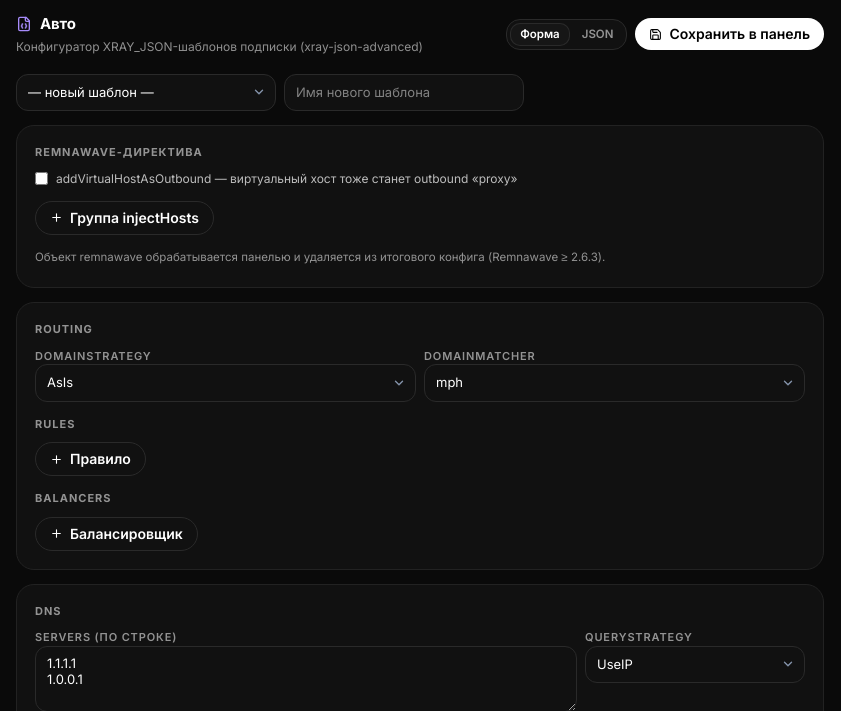
Test case: AutoTemplate › новый шаблон: POST создаёт, PUT пишет template_json
Check: the text "Remnawave-директива" is shown, box [35, 145, 203, 159]
Type "Авто-шаблон" into the field with placeholder "Имя нового шаблона".
click(404, 92); type("Авто-шаблон")  # box [284, 74, 524, 111]
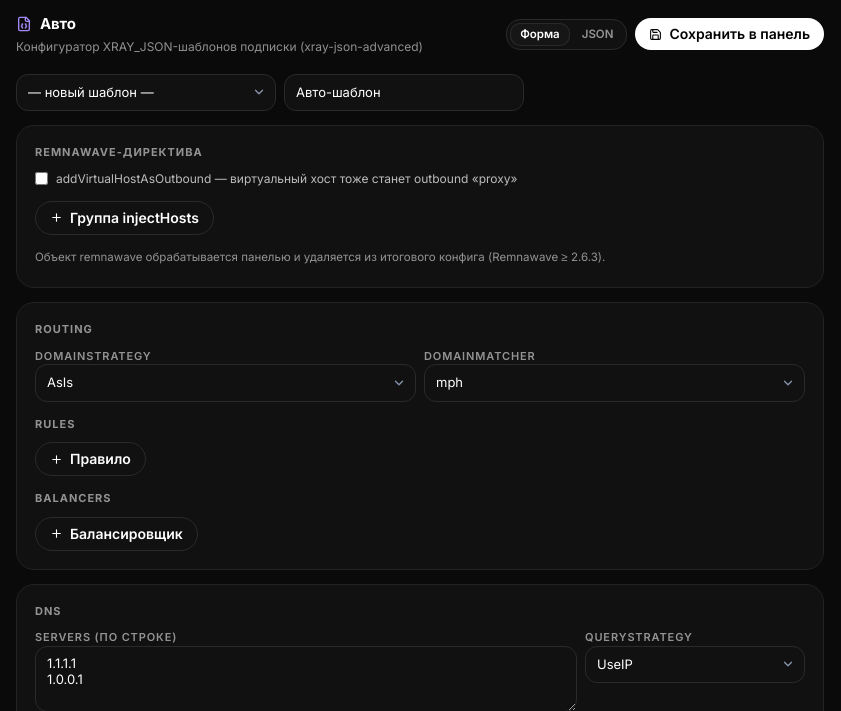
Click the button "Сохранить в панель".
click(730, 34)  # box [635, 18, 824, 50]
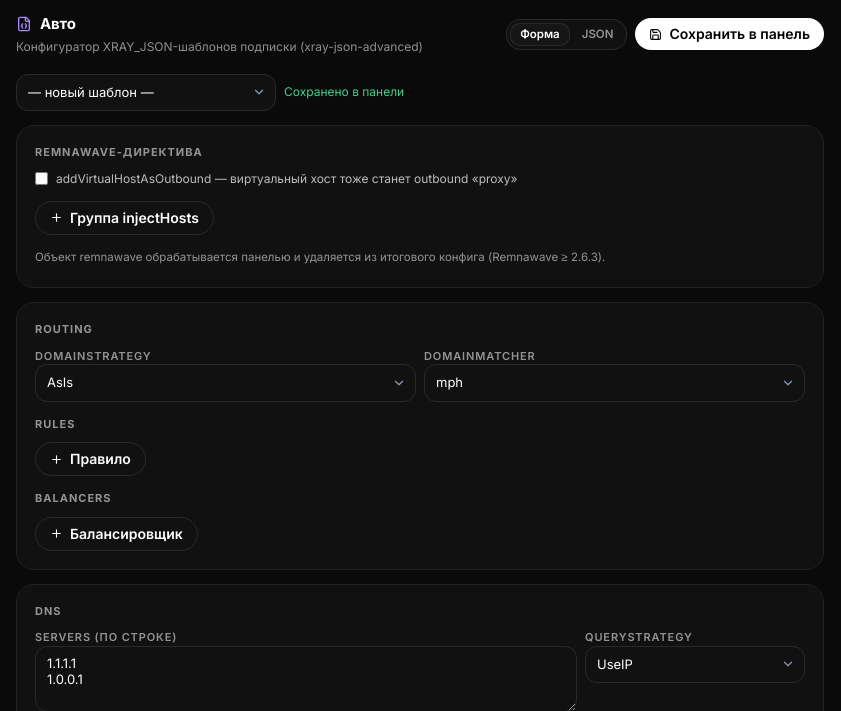
Check: the text "Сохранено в панели" is shown, box [284, 84, 404, 100]
